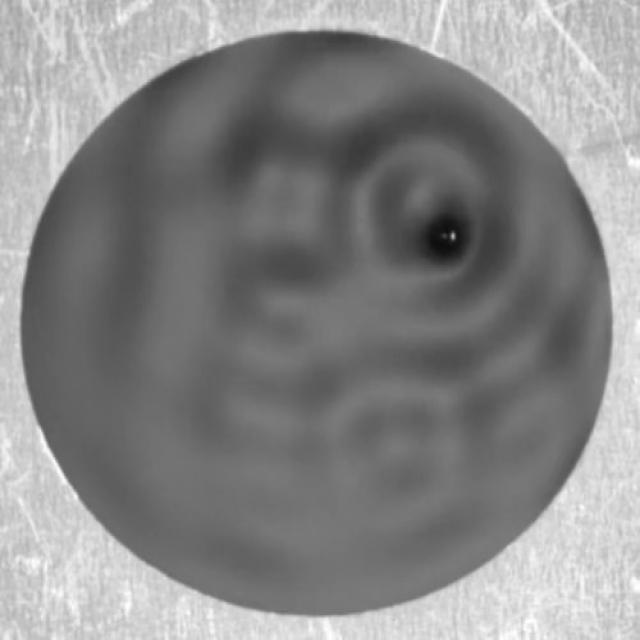droplet: (428, 220, 465, 260)
